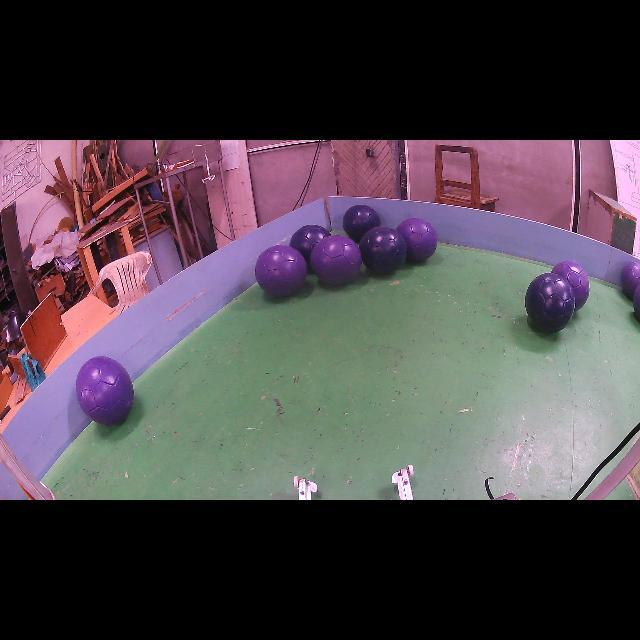B: (525, 272, 575, 332), (360, 226, 408, 274), (290, 225, 330, 264), (342, 205, 380, 242)
P: (76, 356, 134, 425), (255, 245, 308, 296), (310, 235, 361, 285), (552, 260, 590, 311), (396, 218, 438, 262), (621, 261, 640, 299)
